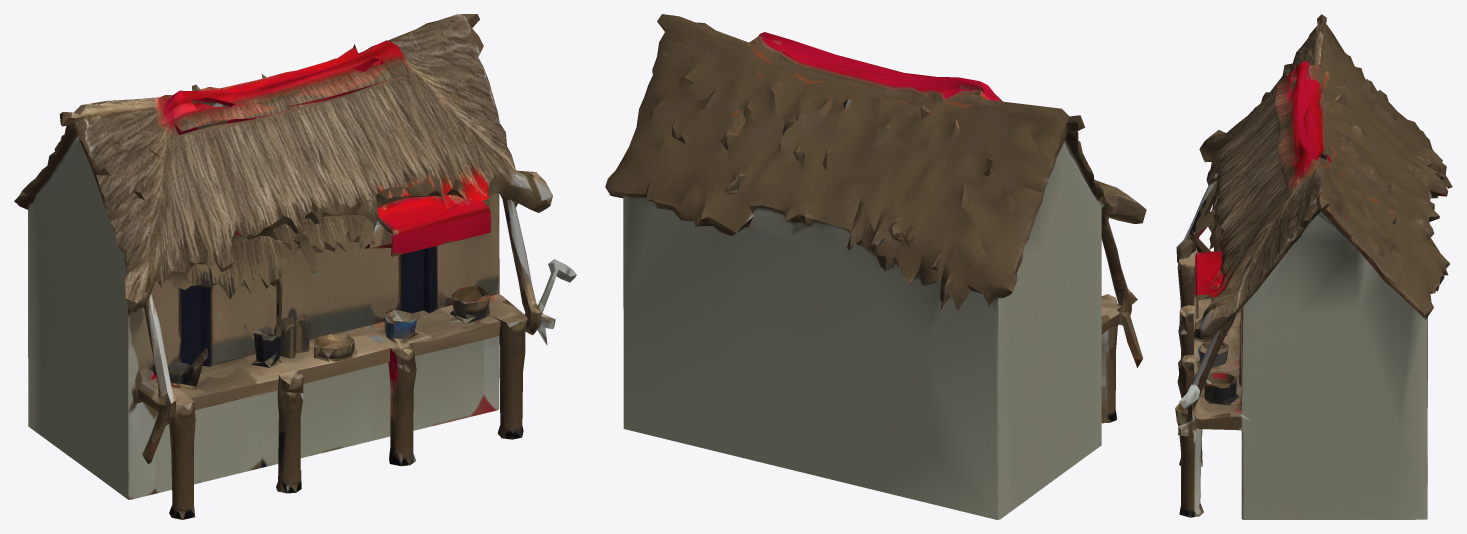
File: guaranies_cuartel.glb
3 views of the same model, side by side, from view 1: azimuth 30°, elevation 25°; view 2: azimuth 150°, elevation 25°; view 3: azimuth 270°, elevation 25° (orthographic). The views are drawn at different scales.
Parts seen in each view (by area): view 1: geometry_0; view 2: geometry_0; view 3: geometry_0.
Boxes of the visible parts, x1,y1,x2,y2 form: geometry_0: [14, 14, 576, 519]; geometry_0: [605, 14, 1146, 519]; geometry_0: [1175, 14, 1452, 519].
Size of the model in its own units: 2.4 by 1.9 by 1.44.
Materials: 1 (1 with a texture image).
